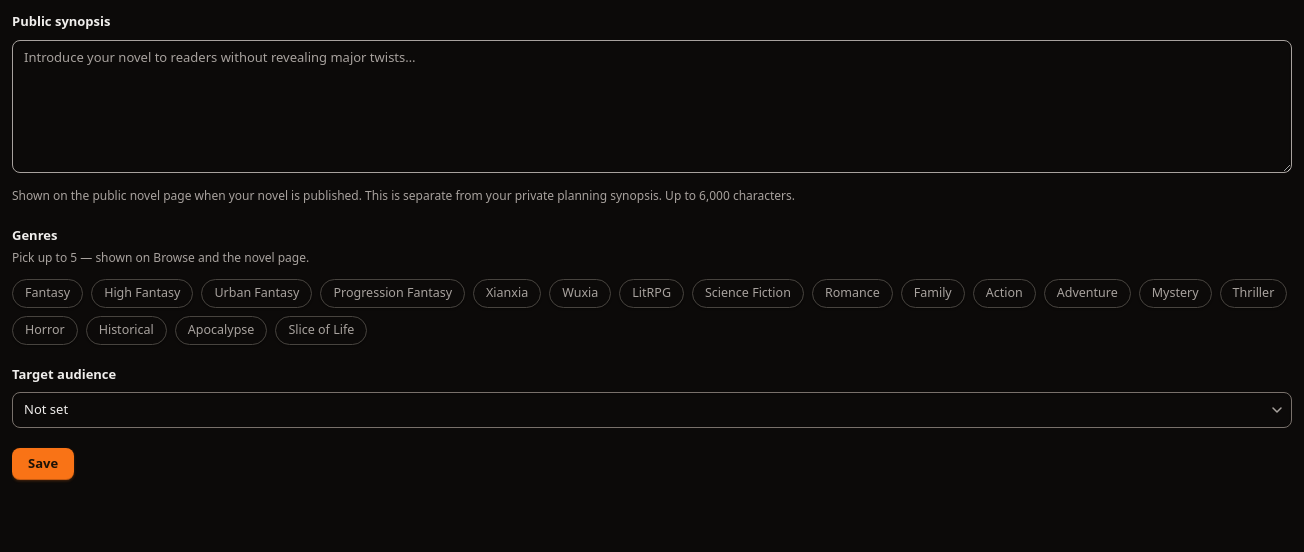
Test: novel discovery editor › maps a forbidden save to the localized copy
Click the button with test id "discovery-save" at (43, 464), box x1=12 y1=448 x2=74 y2=480
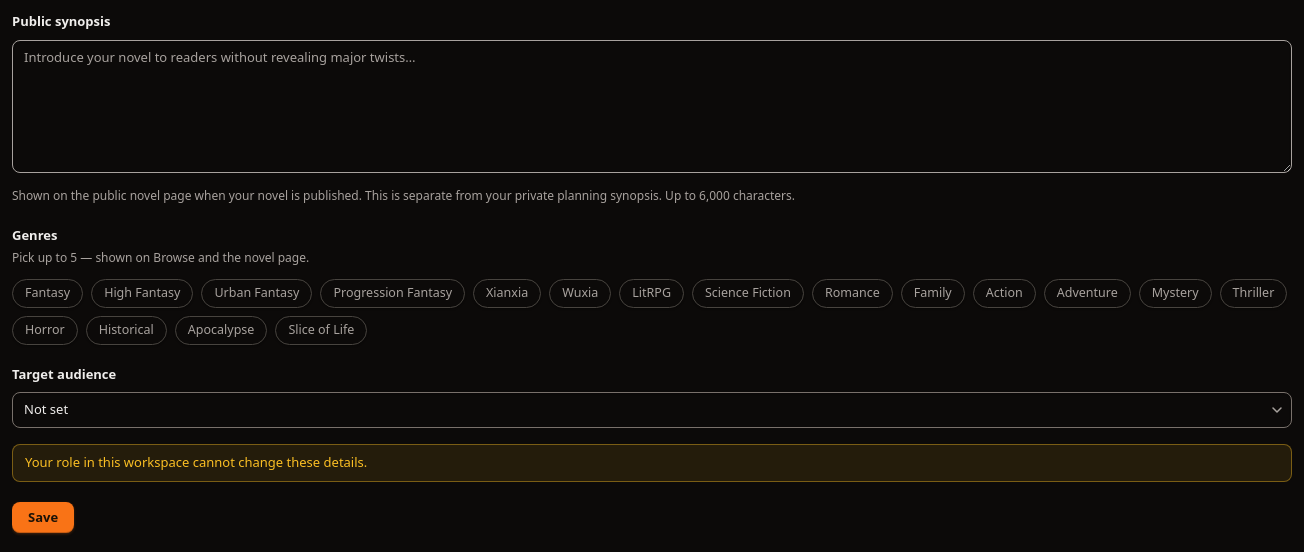
expect the message with test id "discovery-error" reads "Your role in this workspace cannot change these details.": met, box x1=25 y1=453 x2=367 y2=471
